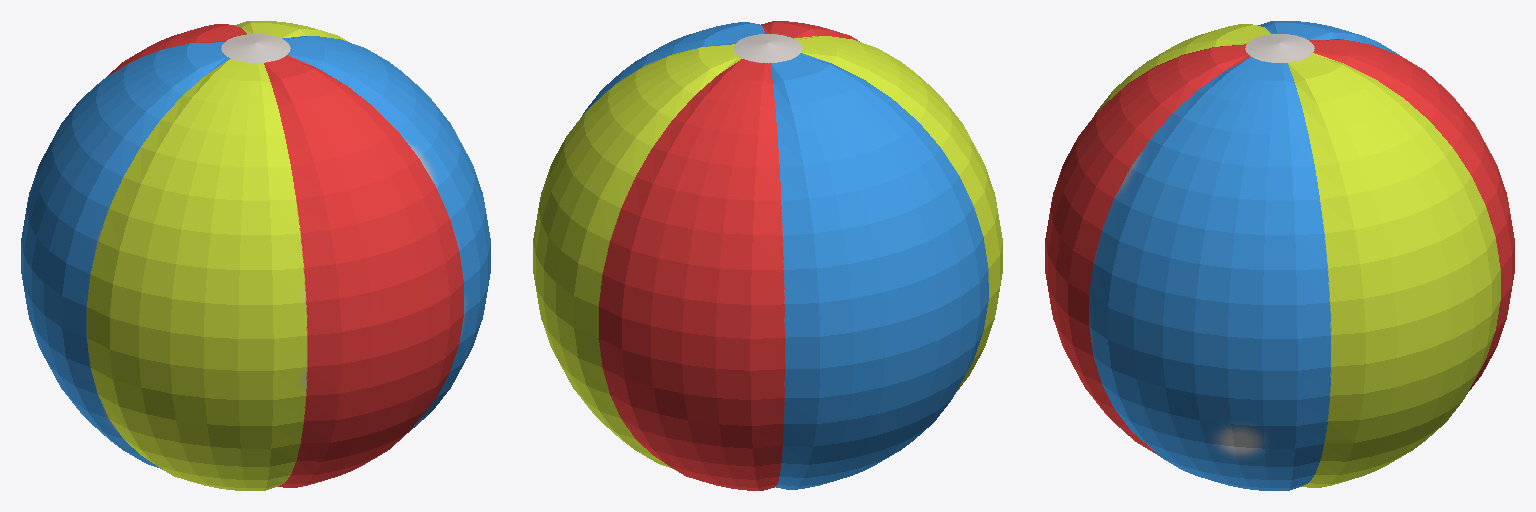
3 renders of one model, left to right at view 1: azimuth 30°, elevation 25°; view 2: azimuth 150°, elevation 25°; view 3: azimuth 270°, elevation 25°, orthographic.
Parts seen in each view (by area): view 1: Sphere.001_ball_texture_0; view 2: Sphere.001_ball_texture_0; view 3: Sphere.001_ball_texture_0.
Boxes of the visible parts, x1,y1,x2,y2 form: Sphere.001_ball_texture_0: [21, 21, 490, 490]; Sphere.001_ball_texture_0: [533, 21, 1002, 490]; Sphere.001_ball_texture_0: [1045, 21, 1514, 490].
Size of the model in its own units: 1.99 by 2 by 1.99.
Materials: 1 (1 with a texture image).